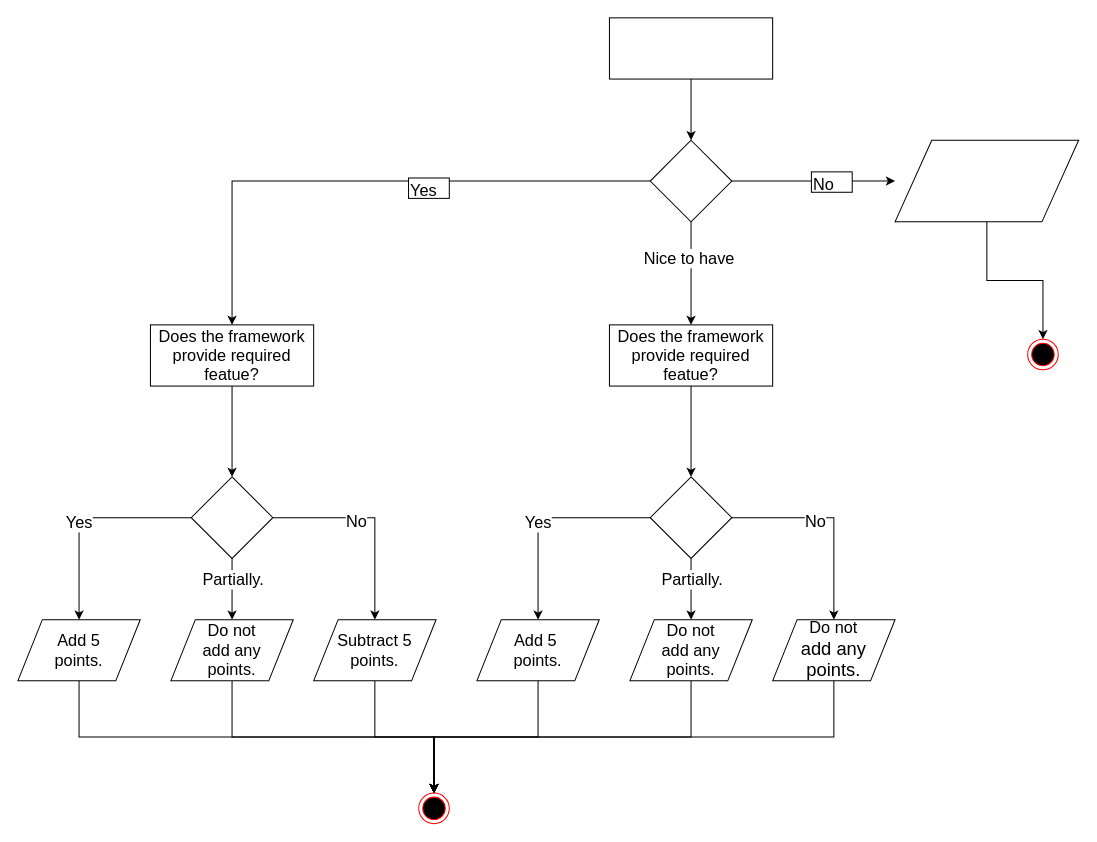
Some shapes in this 1097 by 842 pixel diagram are drawn without their labels. Each missing label, with the box of its shape:
Do nothing. Continue to next question.: (894, 139, 1079, 222)
Do you require feature X in your project?: (608, 17, 773, 79)
